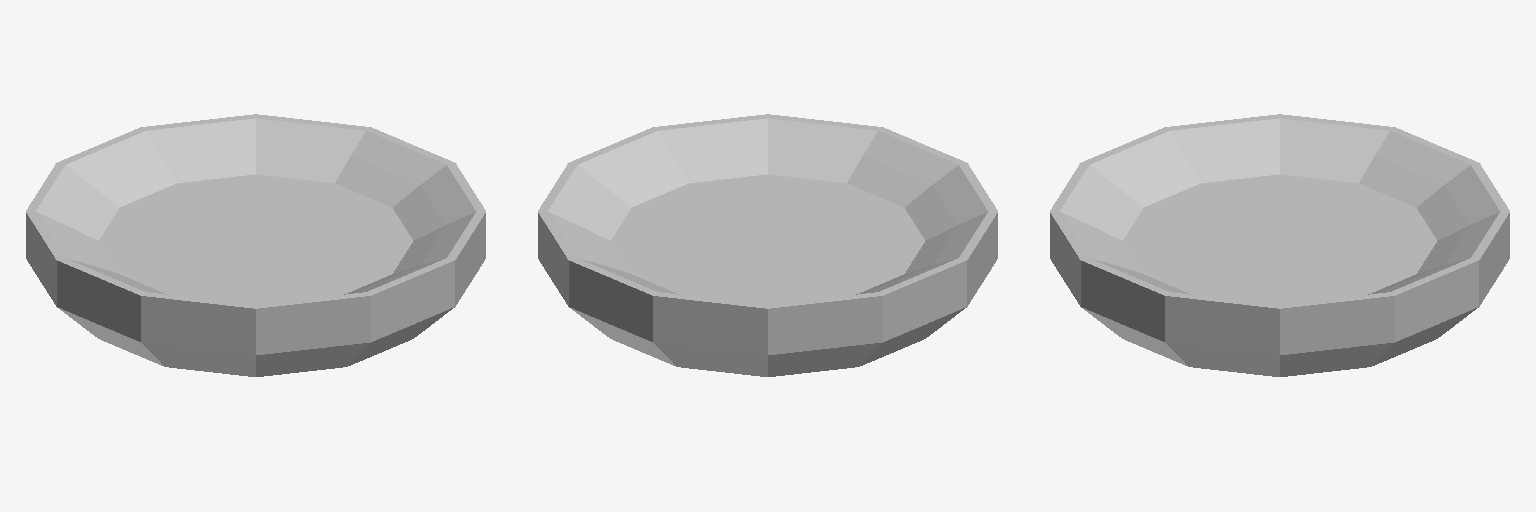
The model's file is ducknest.obj.
3 views of the same model, side by side, from view 1: azimuth 30°, elevation 25°; view 2: azimuth 150°, elevation 25°; view 3: azimuth 270°, elevation 25° (orthographic).
Parts seen in each view (by area): view 1: Cylinder; view 2: Cylinder; view 3: Cylinder.
Boxes of the visible parts, <box> form: Cylinder: <box>26,114,485,376</box>; Cylinder: <box>538,114,997,376</box>; Cylinder: <box>1050,114,1509,376</box>.
Bounding box in the file's own units: 4.9 × 1.04 × 4.9.